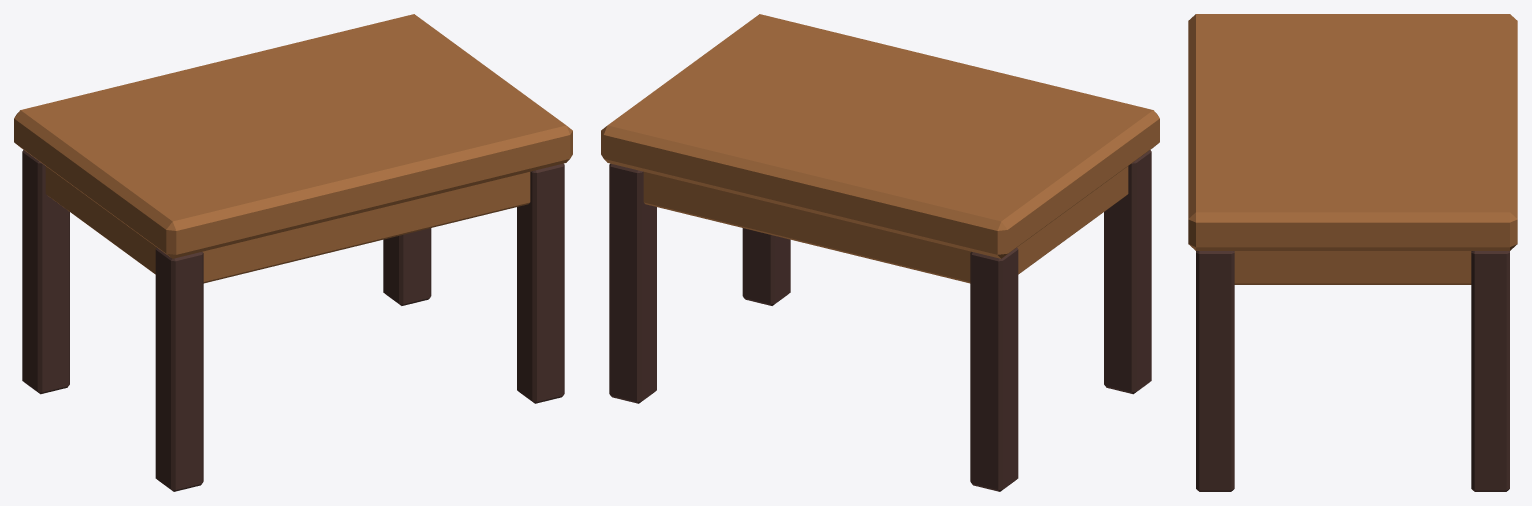
File: table_couloir.glb
3 views of the same model, side by side, from view 1: azimuth 30°, elevation 25°; view 2: azimuth 150°, elevation 25°; view 3: azimuth 270°, elevation 25° (orthographic). The views are drawn at different scales.
Visible parts, largest first — view 1: table_couloir; view 2: table_couloir; view 3: table_couloir.
Part boxes in pixels (x1,y1,x2,y2): table_couloir: (14, 14, 572, 491); table_couloir: (601, 14, 1159, 491); table_couloir: (1188, 14, 1517, 491).
Bounding box in the file's own units: 1.25 × 0.8 × 0.85.
1 material, 1 textured.
